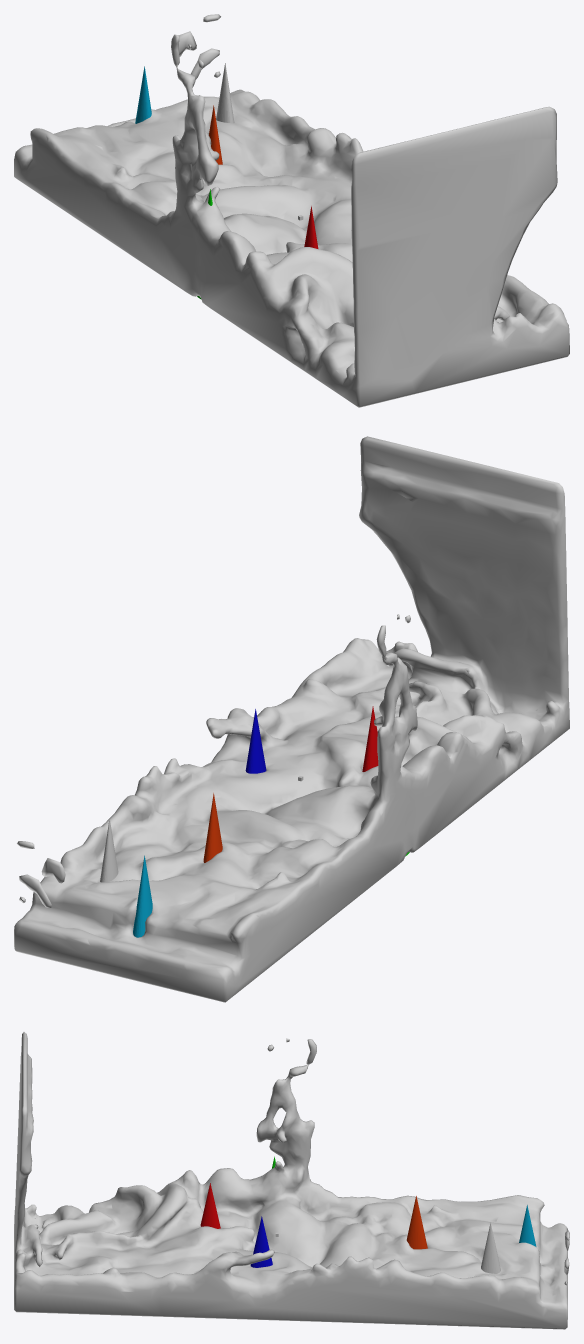
The picture shows the model from 3 angles, top to bottom: view 1: azimuth 30°, elevation 25°; view 2: azimuth 150°, elevation 25°; view 3: azimuth 270°, elevation 25°; orthographic projection. The views are drawn at different scales.
Visible parts, largest first — view 1: Liquid_Domain, 円錐, 円錐.005; view 2: Liquid_Domain, 円錐.005, 円錐.002, 円錐.004; view 3: Liquid_Domain, 円錐.004, 円錐, 円錐.001, 円錐.002.
Part boxes in pixels (<box>): Liquid_Domain: <box>14,14,569,407</box>; 円錐: <box>216,63,234,123</box>; 円錐.005: <box>135,66,151,123</box>; Liquid_Domain: <box>14,436,569,1002</box>; 円錐.005: <box>133,855,152,937</box>; 円錐.002: <box>245,709,266,773</box>; 円錐.004: <box>203,793,222,862</box>; Liquid_Domain: <box>14,1032,569,1329</box>; 円錐.004: <box>406,1196,427,1249</box>; 円錐: <box>481,1223,500,1273</box>; 円錐.001: <box>200,1183,220,1228</box>; 円錐.002: <box>250,1216,272,1267</box>.
Size of the model in its own units: 129 by 158 by 363.
